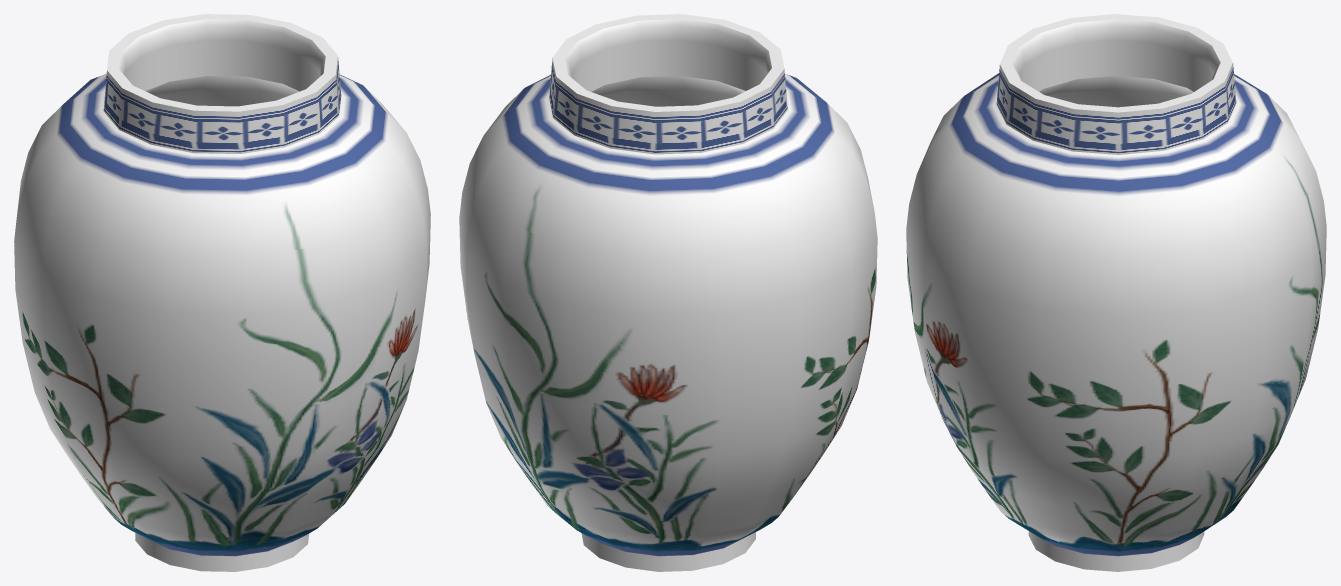
The model's file is jar01.fbx.
The picture shows the model from 3 angles, left to right: view 1: azimuth 30°, elevation 25°; view 2: azimuth 150°, elevation 25°; view 3: azimuth 270°, elevation 25°; orthographic projection.
Parts seen in each view (by area): view 1: jar01; view 2: jar01; view 3: jar01.
Part boxes in pixels (box(x1,y1,x2,y2)): jar01: box(14, 14, 430, 571); jar01: box(459, 14, 877, 571); jar01: box(906, 14, 1326, 571).
Bounding box in the file's own units: 20.02 × 24.77 × 20.02.
